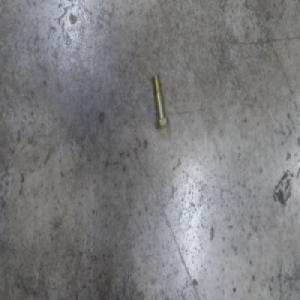Bolt: (152, 75, 169, 133)
